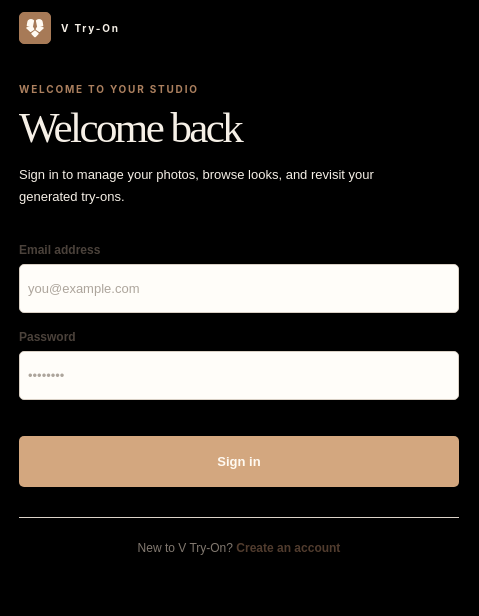
Scenario: Login Flow — Phase 4 Tests › validates invalid email syntax
In the field labelled "Email address": (239, 289) [19,264,459,313], type "not-an-email"
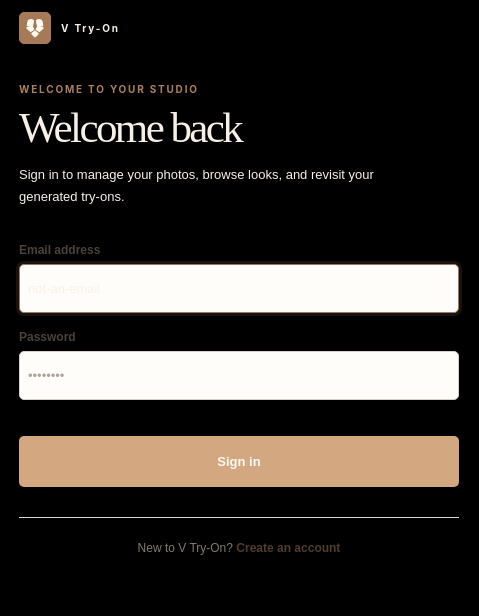
Click the button "Sign in": (239, 462) [19,436,459,487]
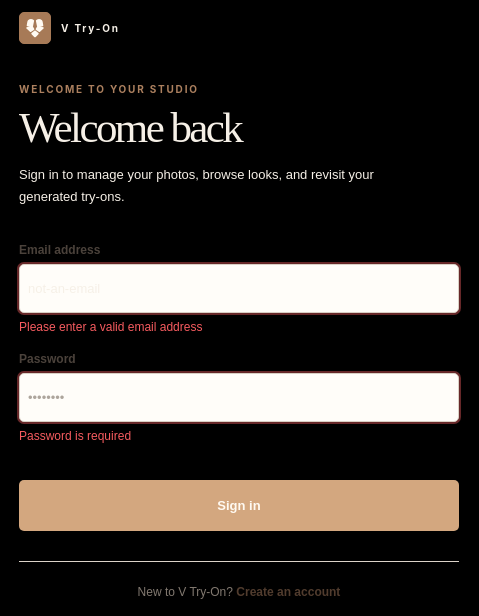
Result: the text "Please enter a valid email address" is shown at [19,320,202,334]
